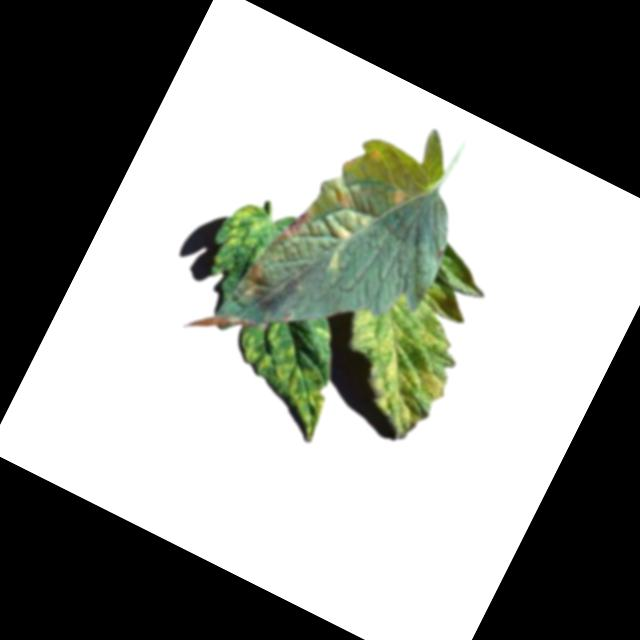Leaf_Mold: (316, 256, 489, 445), (211, 307, 354, 444), (284, 172, 385, 279), (205, 196, 269, 279), (234, 257, 277, 306)
